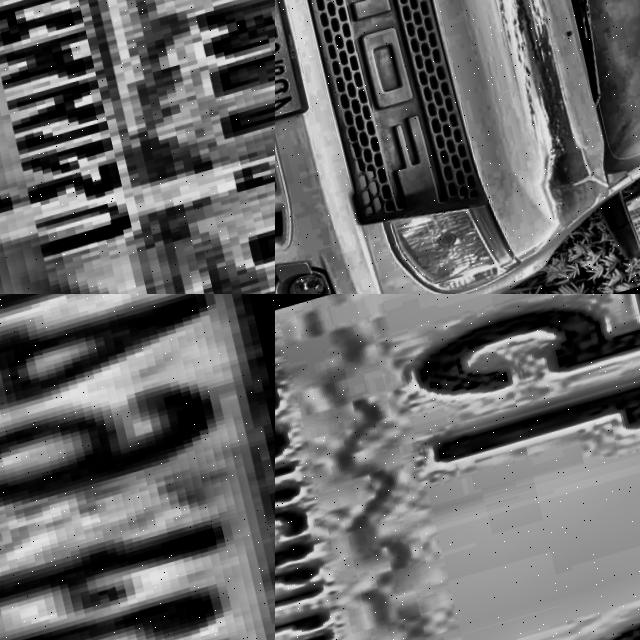license-plate: (275, 294, 640, 640), (0, 294, 275, 640), (0, 0, 275, 294), (275, 0, 310, 139)
